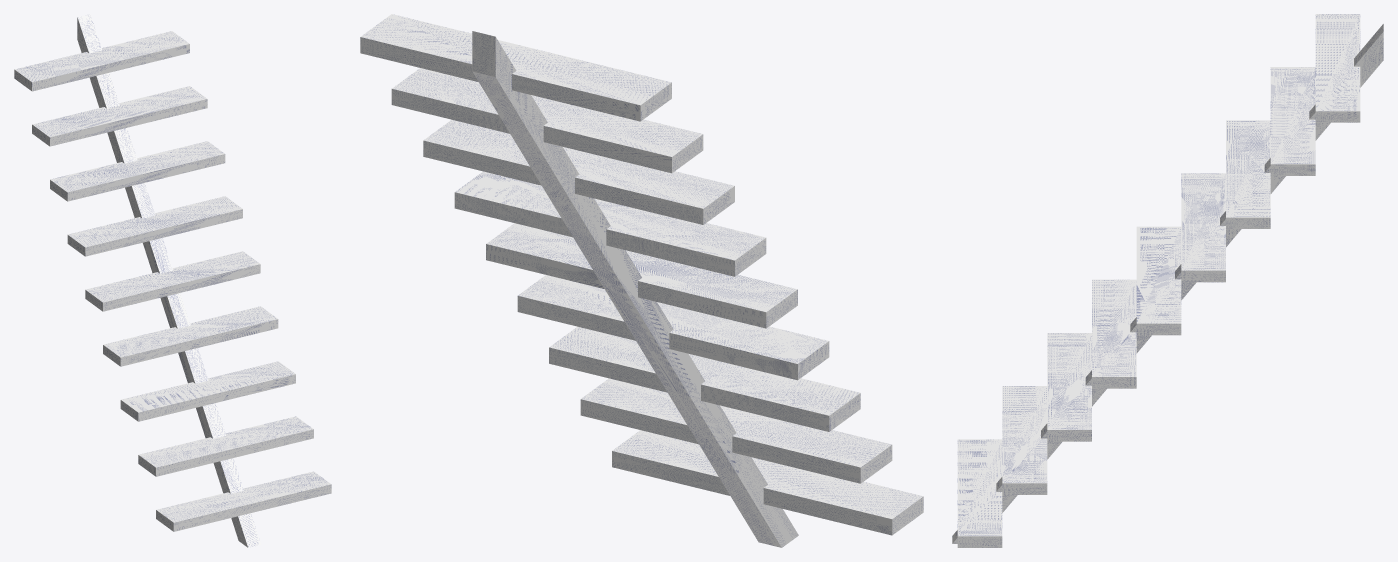
File: stairs3.dae
The picture shows the model from 3 angles, left to right: view 1: azimuth 30°, elevation 25°; view 2: azimuth 150°, elevation 25°; view 3: azimuth 270°, elevation 25°; orthographic projection. The views are drawn at different scales.
Visible parts, largest first — view 1: step (×9), Group_21; view 2: step (×9), Group_21; view 3: step (×9), Group_21.
Part boxes in pixels (<box>): step (×9): <box>14,31,331,531</box>; Group_21: <box>77,14,261,547</box>; step (×9): <box>360,14,923,535</box>; Group_21: <box>472,31,798,547</box>; step (×9): <box>957,14,1360,547</box>; Group_21: <box>952,24,1383,543</box>.
Size of the model in its own units: 36 by 67.49 by 88.5.
